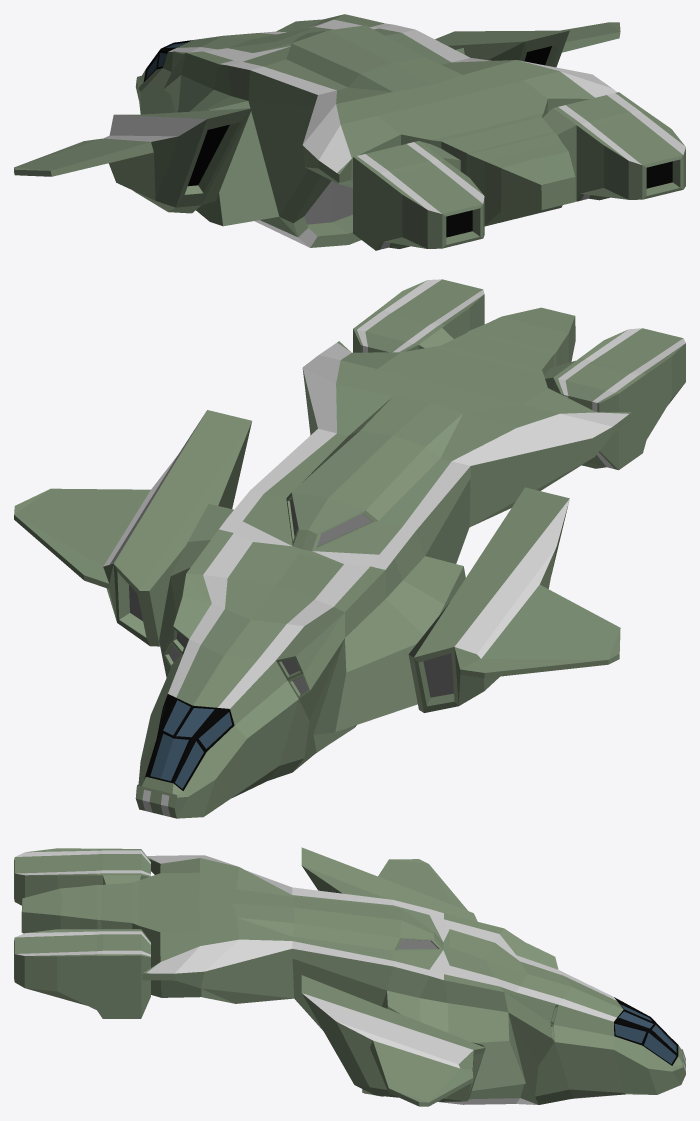
The model's file is pelican.fbx.
3 renders of one model, top to bottom at view 1: azimuth 30°, elevation 25°; view 2: azimuth 150°, elevation 25°; view 3: azimuth 270°, elevation 25°, orthographic. The views are drawn at different scales.
Parts seen in each view (by area): view 1: Body, Left Wing, Left Thruster, Right Thruster, Right Wing; view 2: Body, Left Wing, Right Wing, Left Thruster, Right Thruster; view 3: Body, Right Wing, Right Thruster, Left Wing, Left Thruster.
Boxes of the visible parts, bbox=[...] form: Body: bbox=[135, 14, 616, 247]; Left Wing: bbox=[14, 108, 251, 213]; Left Thruster: bbox=[353, 141, 484, 250]; Right Thruster: bbox=[543, 92, 685, 201]; Right Wing: bbox=[435, 22, 620, 67]; Body: bbox=[135, 307, 631, 818]; Left Wing: bbox=[408, 487, 620, 712]; Right Wing: bbox=[14, 410, 251, 646]; Left Thruster: bbox=[544, 328, 685, 470]; Right Thruster: bbox=[353, 279, 484, 352]; Body: bbox=[21, 855, 685, 1104]; Right Wing: bbox=[301, 975, 485, 1106]; Right Thruster: bbox=[14, 929, 150, 1018]; Left Wing: bbox=[301, 847, 477, 921]; Left Thruster: bbox=[14, 848, 150, 905].
Size of the model in its own units: 226 by 82.52 by 264.
